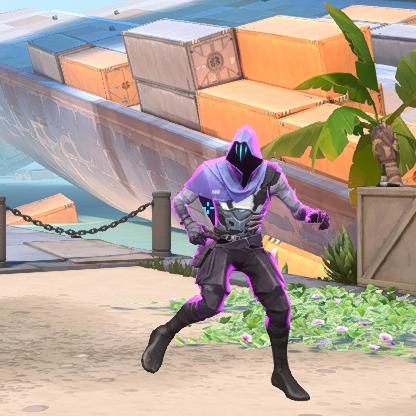enemyBody: (222, 177, 255, 239)
enemyHead: (236, 140, 252, 172)
